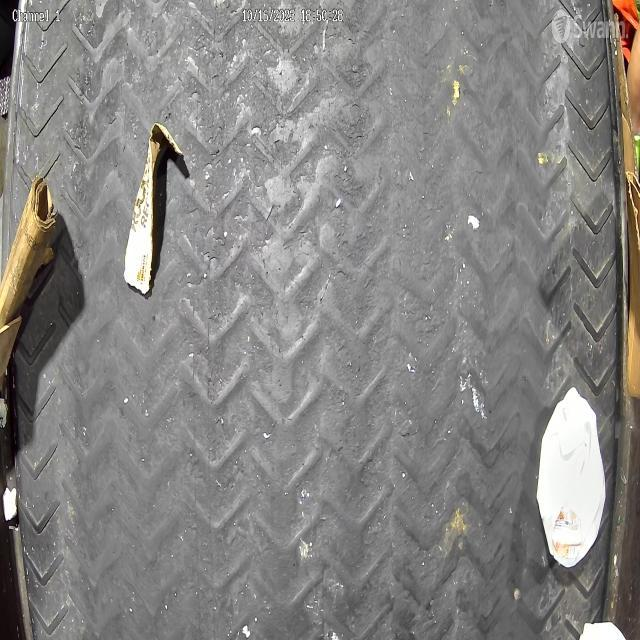milk_jug: (536, 391, 606, 571)
